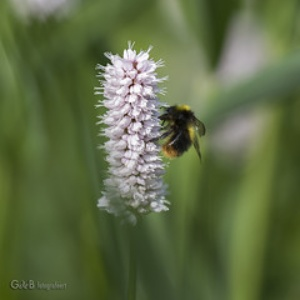bee: (159, 101, 206, 161)
